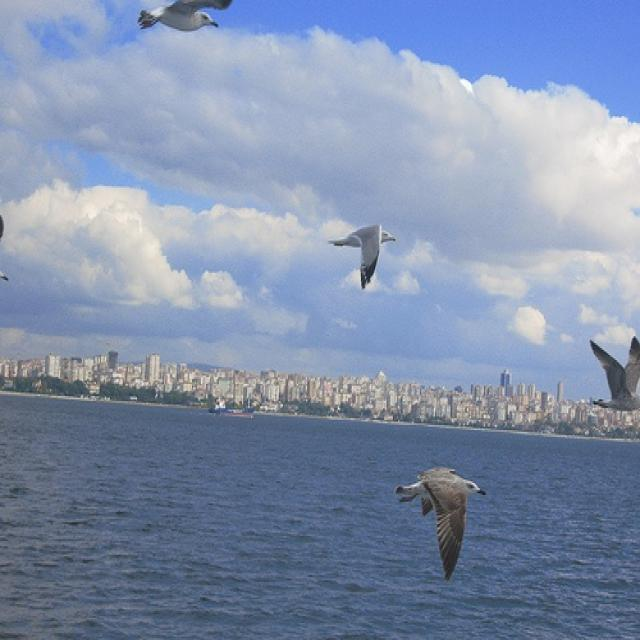bird: (397, 464, 489, 586), (326, 222, 394, 290), (589, 336, 639, 413), (136, 0, 237, 34)
